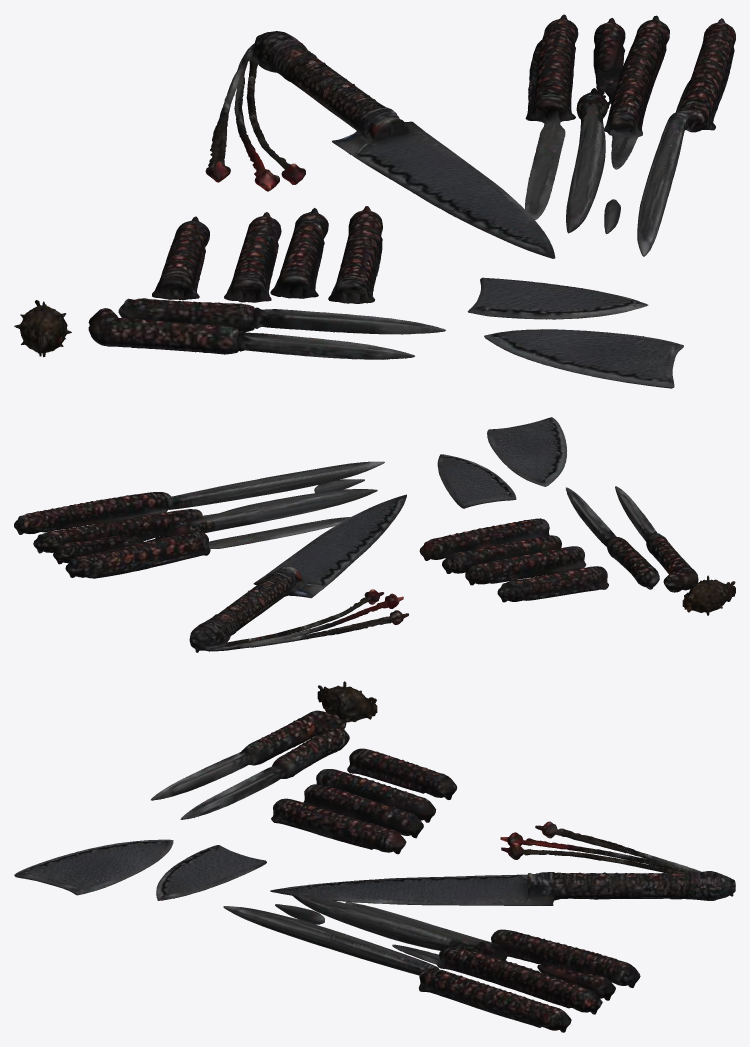
Rendered from faca-cozinha-lidia.glb.
3 views of the same model, one above another, from view 1: azimuth 30°, elevation 25°; view 2: azimuth 150°, elevation 25°; view 3: azimuth 270°, elevation 25° (orthographic). The views are drawn at different scales.
Parts seen in each view (by area): view 1: node_0; view 2: node_0; view 3: node_0.
Part boxes in pixels (<box>): node_0: <box>14,14,735,388</box>; node_0: <box>14,417,735,652</box>; node_0: <box>14,681,735,1032</box>.
Bounding box in the file's own units: 1.08 × 0.0685 × 1.
Materials: 1 (1 with a texture image).
